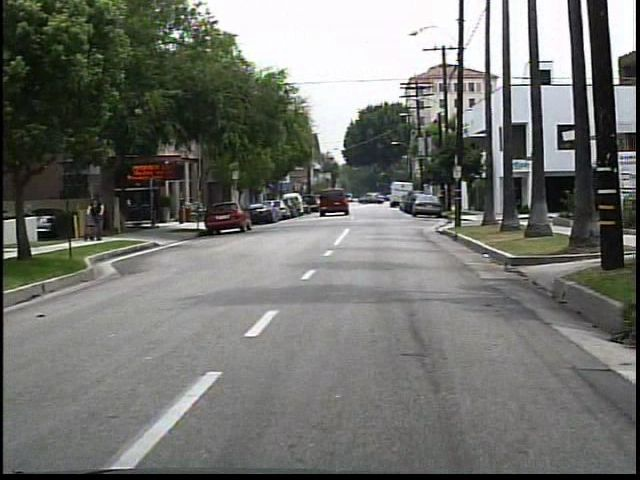person: (84, 192, 113, 243)
